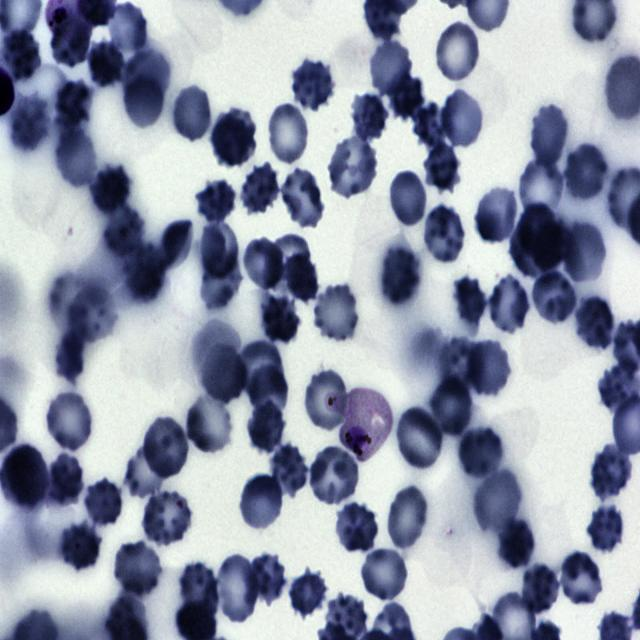red blood cell: (511, 202, 569, 276), (43, 388, 96, 454), (472, 467, 522, 536), (306, 446, 362, 507), (326, 136, 380, 199), (310, 281, 362, 345), (432, 19, 483, 84), (213, 555, 260, 625), (141, 416, 191, 480), (303, 369, 352, 434), (385, 484, 430, 554), (192, 316, 242, 379), (561, 219, 608, 285), (518, 156, 564, 222), (1, 442, 46, 509), (428, 374, 474, 439), (266, 101, 311, 167), (140, 489, 193, 545), (279, 166, 326, 229), (187, 396, 236, 456), (420, 205, 468, 266), (196, 250, 243, 312), (112, 540, 164, 596), (266, 233, 312, 296), (197, 217, 241, 282), (359, 546, 410, 602), (563, 142, 609, 204), (367, 39, 414, 99), (378, 244, 422, 308), (398, 402, 440, 469), (201, 343, 247, 404), (529, 102, 570, 170), (238, 474, 286, 532), (210, 108, 258, 166), (530, 268, 578, 326), (474, 184, 520, 244), (440, 88, 485, 149), (68, 286, 117, 342), (121, 75, 169, 132), (124, 242, 167, 305), (457, 424, 505, 480), (488, 274, 532, 335), (56, 123, 96, 190), (558, 550, 604, 608), (467, 338, 512, 397), (235, 338, 284, 392), (176, 561, 220, 621), (494, 512, 537, 573), (8, 93, 50, 155), (88, 161, 133, 216), (437, 336, 482, 391), (333, 502, 380, 554), (590, 445, 634, 500), (122, 48, 172, 96), (171, 86, 213, 143), (290, 59, 335, 112), (388, 170, 429, 228), (241, 236, 285, 290), (58, 520, 102, 574), (246, 400, 287, 457), (422, 139, 464, 194), (50, 15, 93, 67), (246, 552, 288, 605), (124, 446, 166, 499), (520, 563, 561, 616), (240, 162, 280, 216), (104, 205, 144, 259), (587, 503, 627, 556), (258, 296, 302, 344), (247, 364, 290, 413), (288, 569, 329, 620), (350, 93, 390, 144), (108, 4, 148, 55), (2, 31, 41, 83), (282, 250, 320, 303), (413, 102, 452, 153), (195, 178, 238, 224), (56, 77, 94, 128), (268, 446, 306, 496), (84, 481, 124, 528), (388, 72, 425, 122), (44, 454, 82, 502), (452, 275, 488, 325), (577, 300, 612, 349), (88, 39, 123, 86)
trophozoite: (338, 388, 394, 462)
